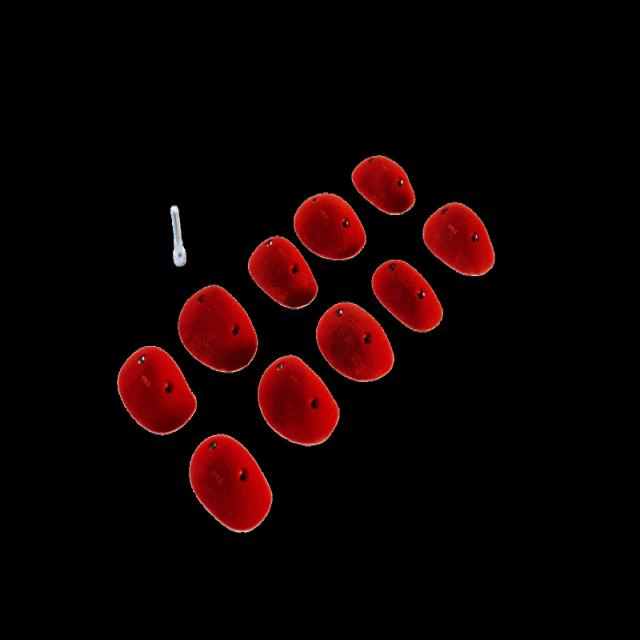Hold: (186, 438, 282, 533), (177, 276, 256, 370), (255, 360, 343, 444), (115, 342, 194, 433), (423, 194, 502, 270), (315, 306, 403, 374), (296, 191, 373, 262), (251, 233, 319, 307), (374, 261, 446, 326), (351, 152, 422, 216)
